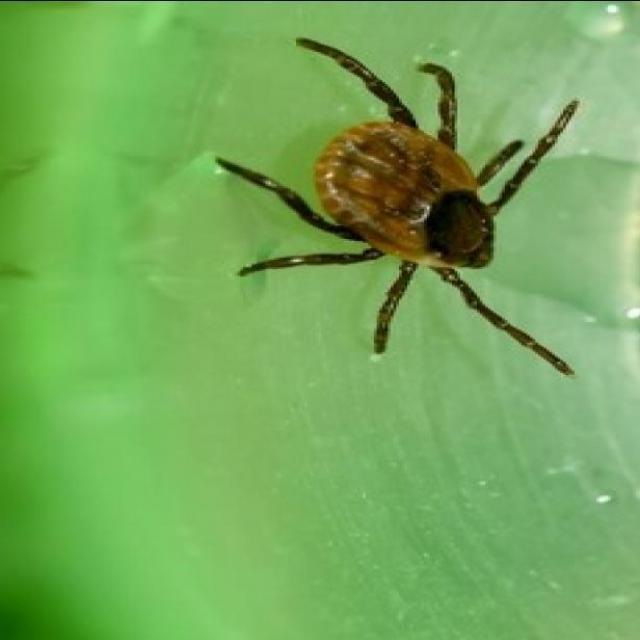Rhipicephalus Sanguineus-F: (221, 38, 577, 378)
